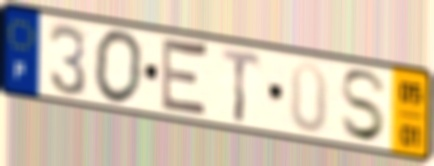0: (288, 59, 331, 137)
3: (46, 20, 88, 99)
E: (159, 33, 211, 123)
O: (92, 27, 146, 108)
S: (338, 67, 390, 145)
T: (219, 46, 263, 126)
